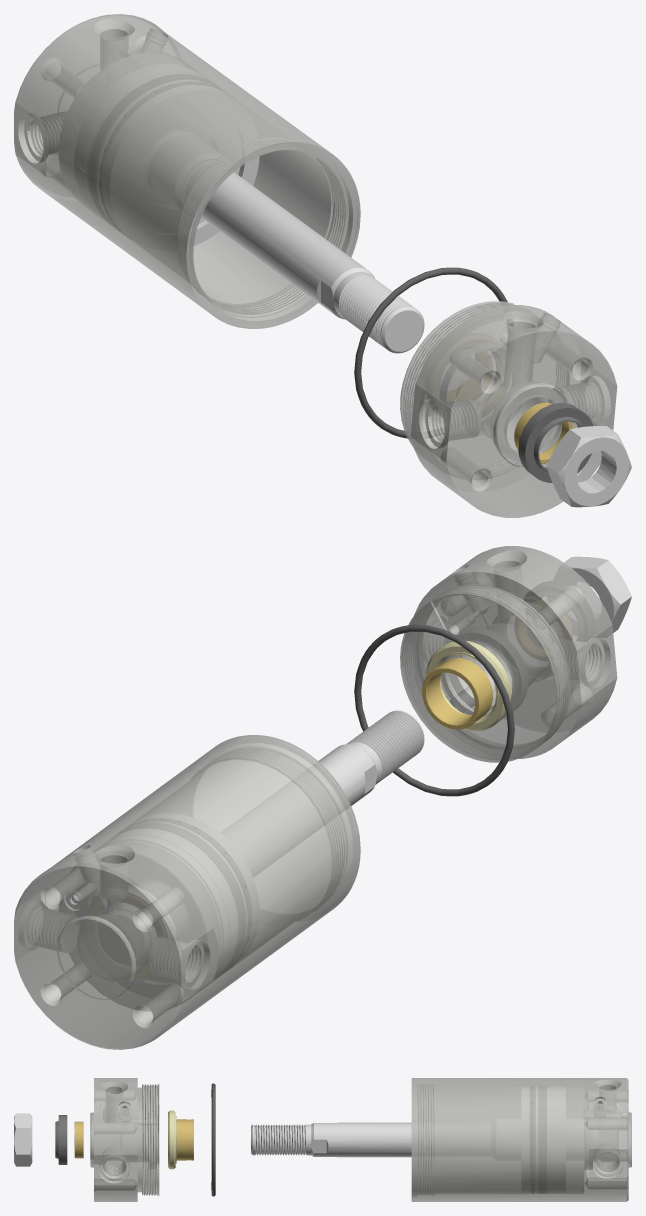
3 views of the same model, one above another, from view 1: azimuth 30°, elevation 25°; view 2: azimuth 150°, elevation 25°; view 3: azimuth 270°, elevation 25° (orthographic). The views are drawn at different scales.
Visible parts, largest first — view 1: Cylinder_body, Piston_Rod, Cylinder_Cap, Rod_Nut, Cylinder_O_ring_Seal, Rod_Seal, Cushion_seal, piston_guide_ring, PTFE_Wear_Ring, End_Guide_bush___Phos_Bronze, End_Guide_bush__seal; view 2: Cylinder_body, Cylinder_Cap, Piston_Rod, Cylinder_O_ring_Seal, Rod_Nut, End_Guide_bush___Phos_Bronze, Cushion_seal, Rod_Seal, piston_guide_ring, PTFE_Wear_Ring, Cushion_seal_2_2, End_Guide_bush__seal; view 3: Cylinder_body, Piston_Rod, Cylinder_Cap, Rod_Nut, piston_guide_ring, End_Guide_bush___Phos_Bronze, PTFE_Wear_Ring, Rod_Seal, Cylinder_O_ring_Seal, Piston_O_Ring_Seal, Cushion_seal, End_Guide_bush__seal (+3 smaller).
Part boxes in pixels (x1,y1,x2,y2): Cylinder_body: (14, 14, 360, 328); Piston_Rod: (74, 64, 424, 353); Cylinder_Cap: (400, 301, 617, 517); Rod_Nut: (546, 426, 631, 507); Cylinder_O_ring_Seal: (354, 267, 513, 438); Rod_Seal: (518, 402, 593, 482); Cushion_seal: (427, 333, 510, 416); piston_guide_ring: (89, 74, 215, 223); PTFE_Wear_Ring: (79, 68, 204, 218); End_Guide_bush___Phos_Bronze: (423, 339, 492, 401); End_Guide_bush__seal: (514, 402, 572, 463); Cylinder_body: (14, 735, 360, 1049); Cylinder_Cap: (400, 546, 617, 762); Piston_Rod: (75, 710, 424, 997); Cylinder_O_ring_Seal: (354, 624, 514, 796); Rod_Nut: (547, 556, 631, 637); End_Guide_bush___Phos_Bronze: (422, 658, 492, 729); Cushion_seal: (426, 641, 511, 730); Rod_Seal: (525, 581, 594, 650); piston_guide_ring: (118, 823, 245, 972); PTFE_Wear_Ring: (112, 831, 235, 980); Cushion_seal_2_2: (88, 894, 165, 978); End_Guide_bush__seal: (515, 601, 572, 660); Cylinder_body: (411, 1078, 631, 1201); Piston_Rod: (251, 1087, 597, 1192); Cylinder_Cap: (90, 1078, 159, 1201); Rod_Nut: (14, 1113, 32, 1166); piston_guide_ring: (539, 1087, 546, 1192); End_Guide_bush___Phos_Bronze: (176, 1119, 193, 1160); PTFE_Wear_Ring: (552, 1087, 557, 1192); Rod_Seal: (55, 1115, 67, 1164); Cylinder_O_ring_Seal: (211, 1083, 215, 1196); Piston_O_Ring_Seal: (530, 1086, 534, 1193); Cushion_seal: (168, 1110, 176, 1169); End_Guide_bush__seal: (74, 1121, 83, 1158).
Size of the model in its own units: 0.24 by 0.24 by 1.2.
